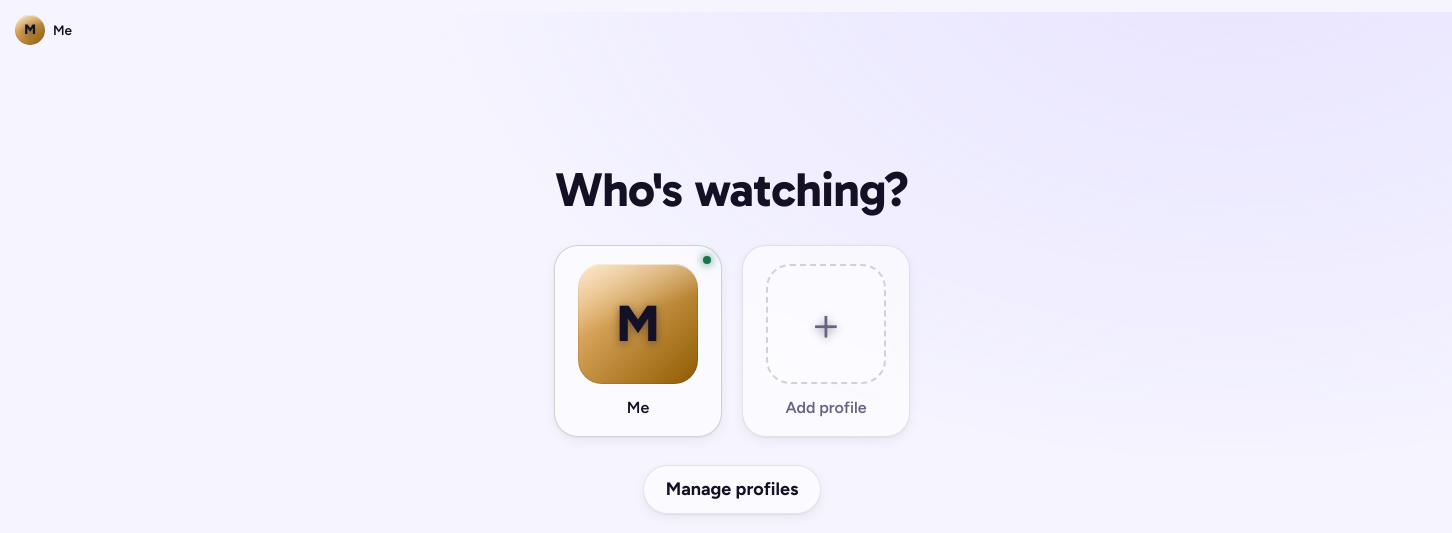
Test: ProfileMenu › closes on Escape
This screenshot has width=1452, height=533.
Click the button with aria-label "Profile: Me" at (47, 30), box [12,12,82,48]
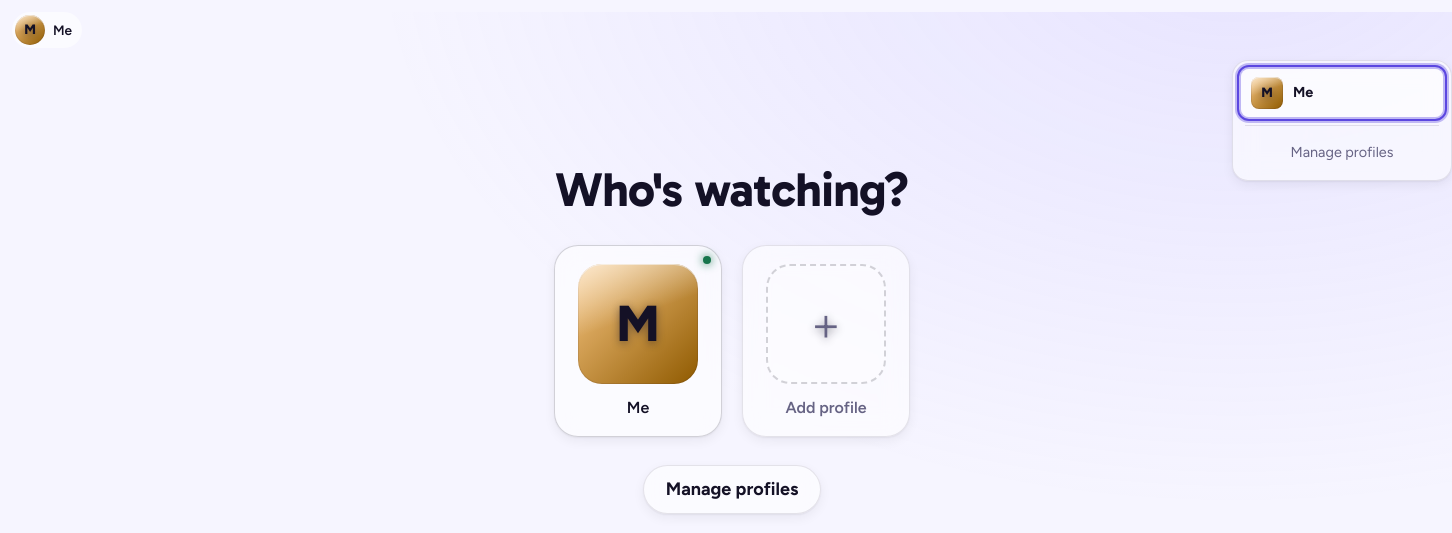
Press Escape in the menu, box [1232,60,1451,181]
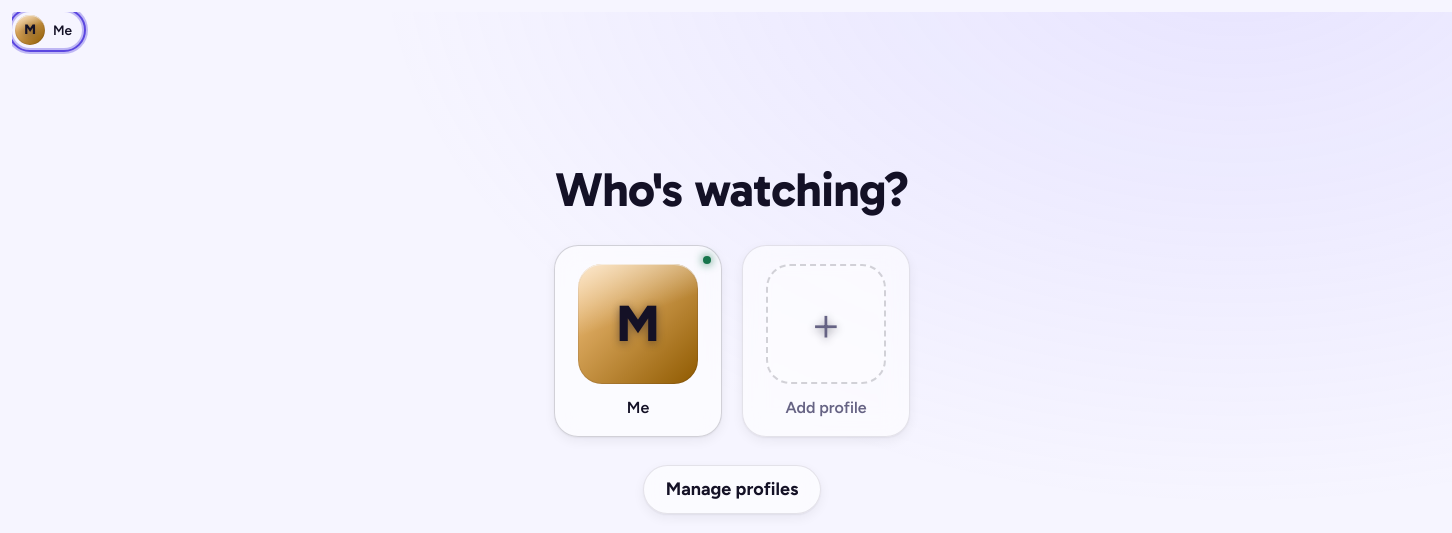
Result: the menu is gone
